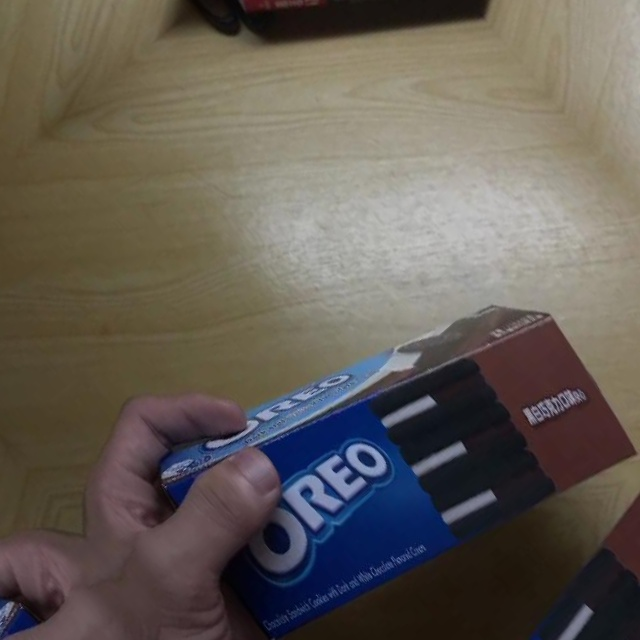Oreo: (124, 194, 640, 640)
